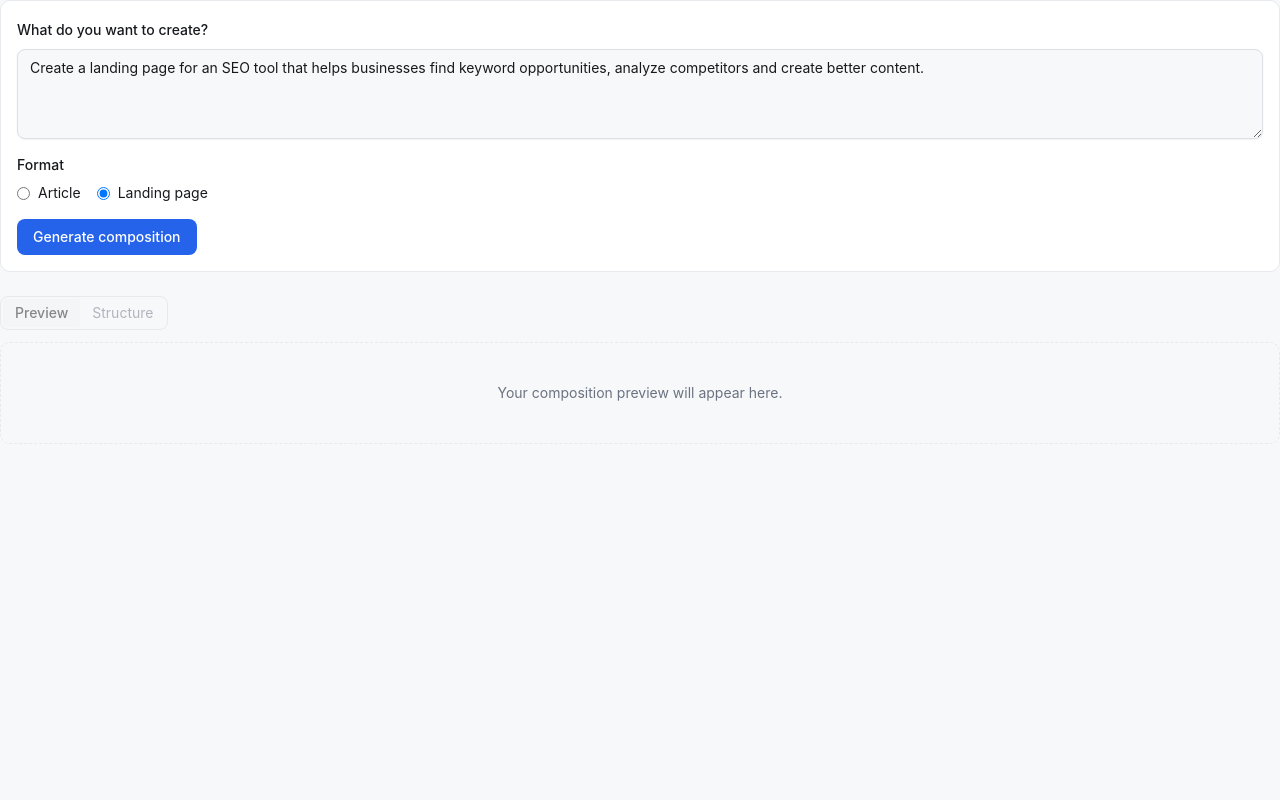
Test: Compose -> current document append affordance › hands the run to the shell to append without creating a draft
Click the button "Generate composition": (107,237) [17,219,196,255]
(page scrolled)
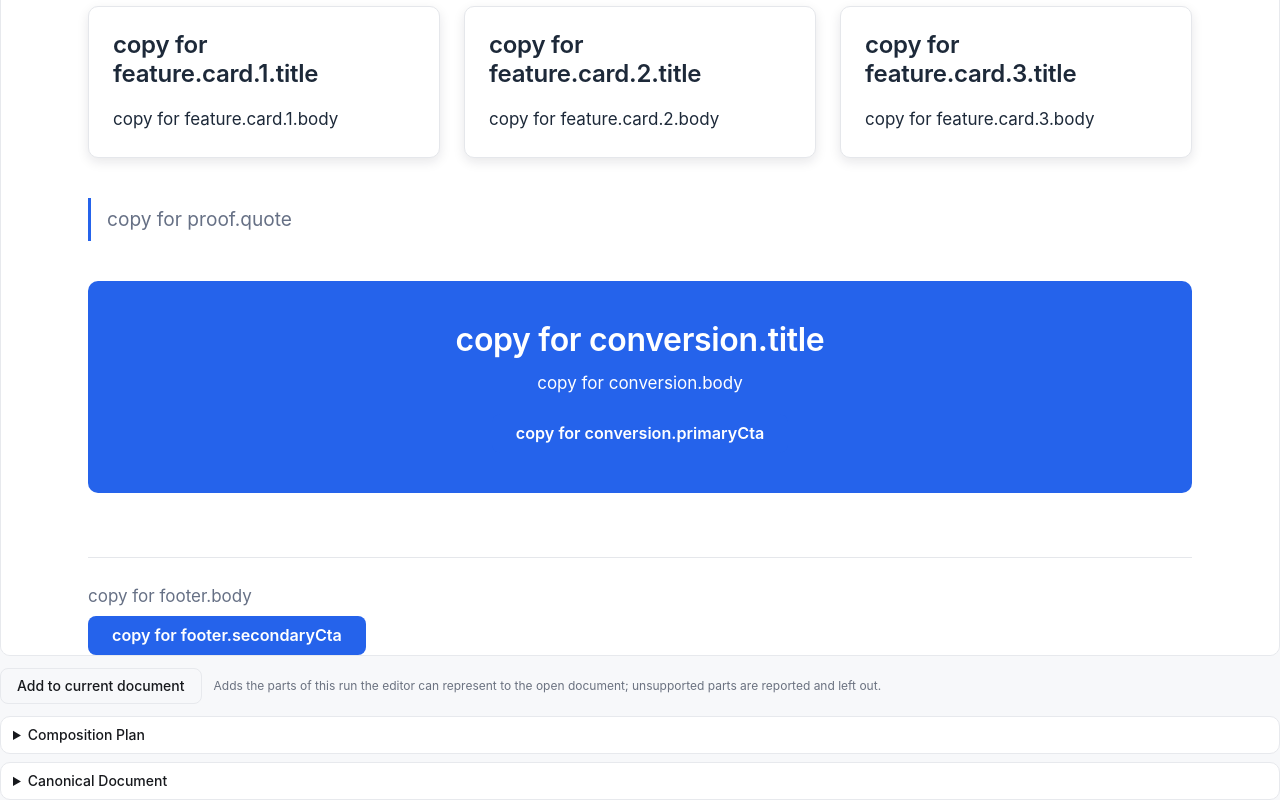
Expected: the button with test id "compose-append-current" is enabled
Click the button with test id "compose-append-current": (101,686) [0,668,202,704]
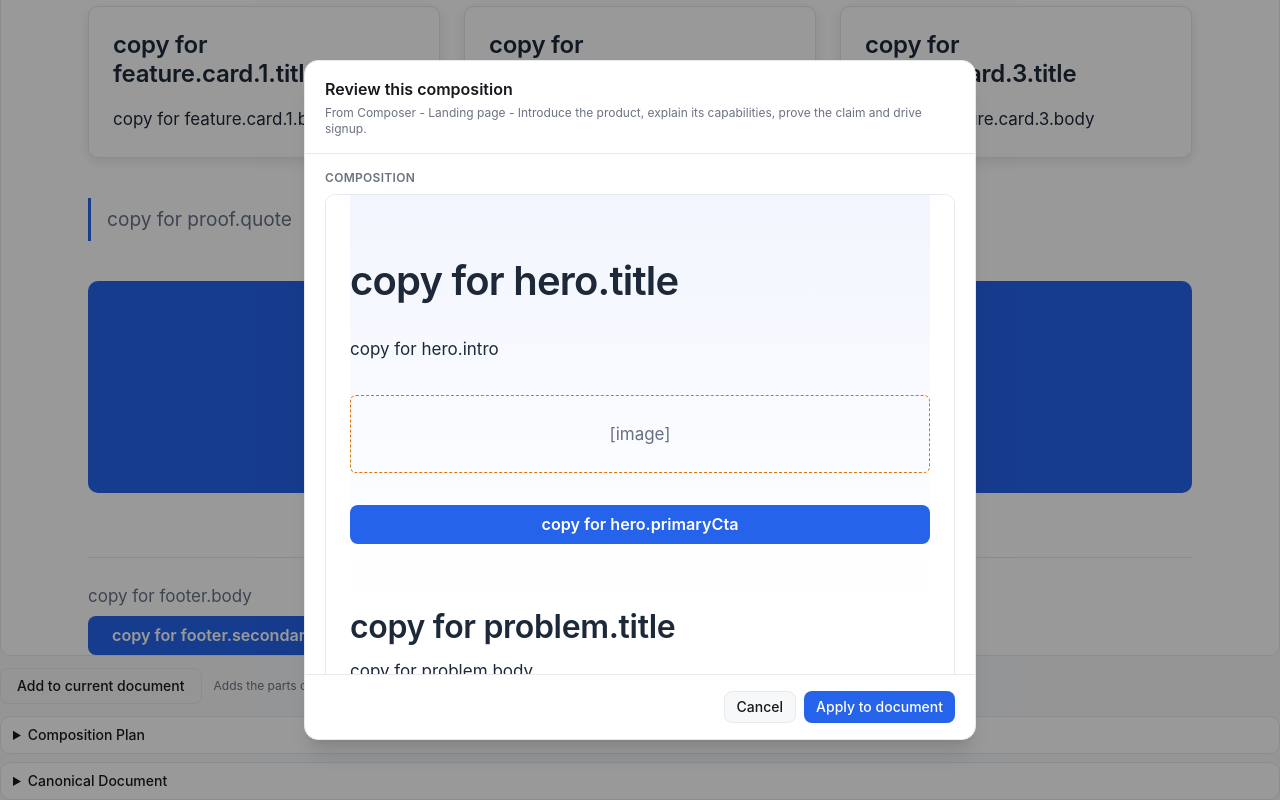
Expected: the dialog with test id "composition-review" is shown, [304,60,976,740]
Click the button with test id "composition-review-apply": (880,707) [804,691,955,723]
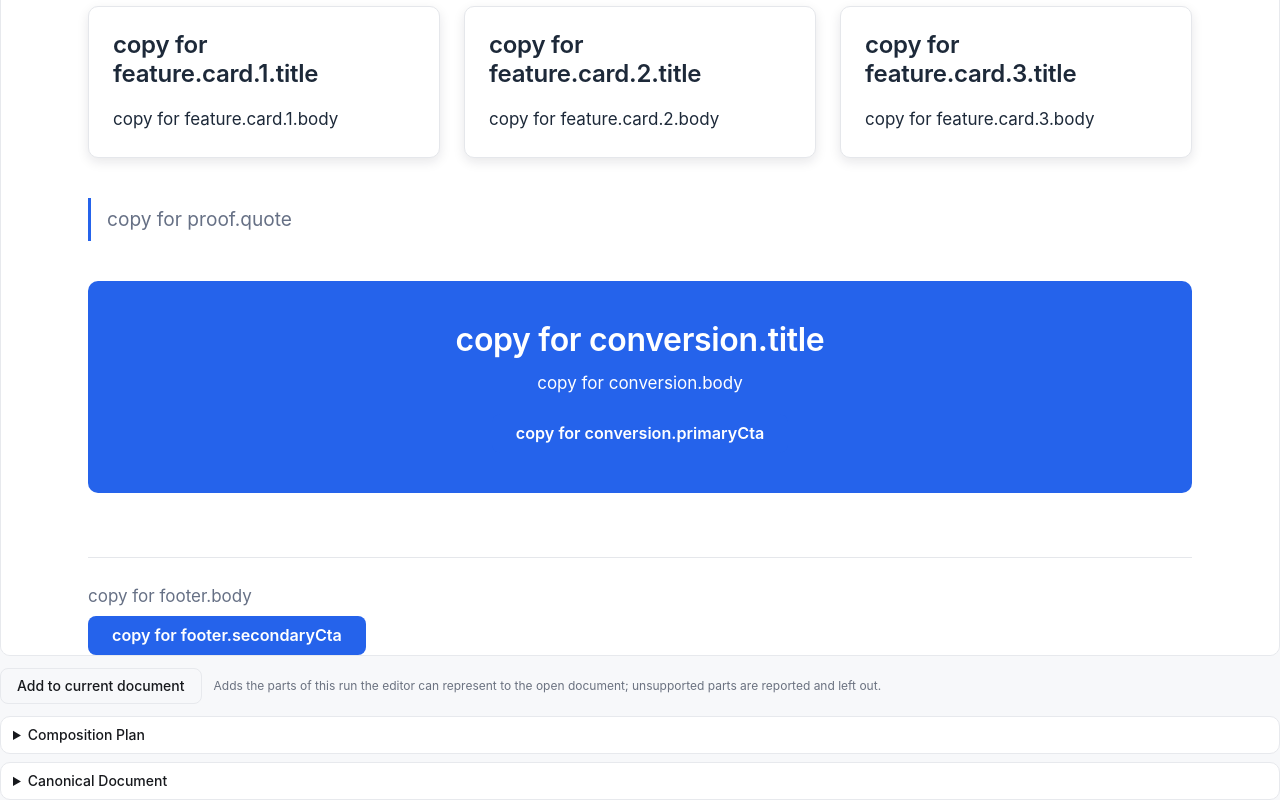
Expected: the dialog with test id "composition-review" is gone
